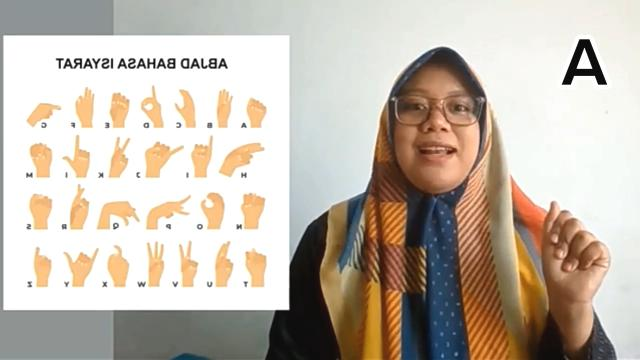A: (530, 196, 618, 312)
